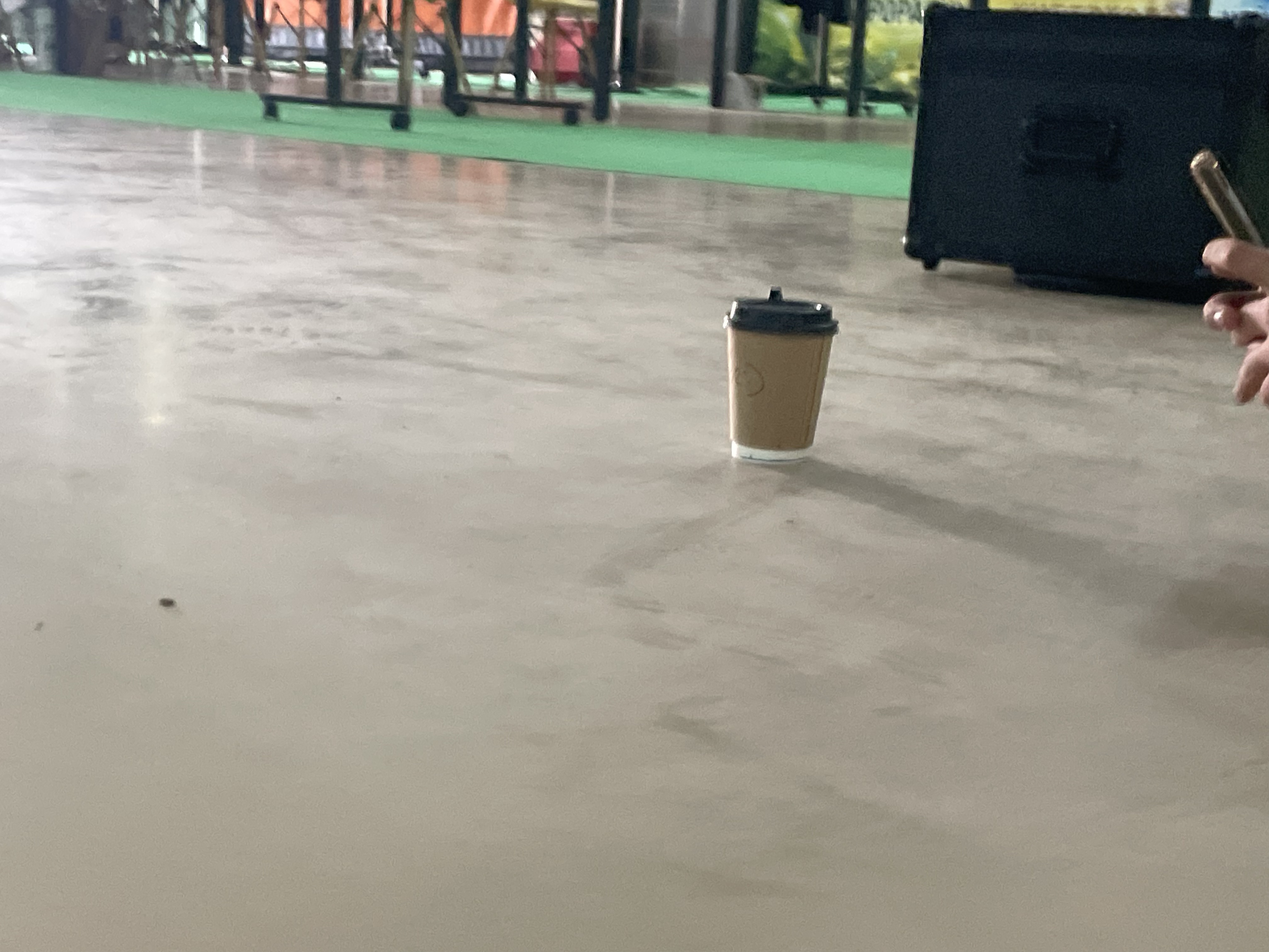cup: (722, 288, 839, 466)
